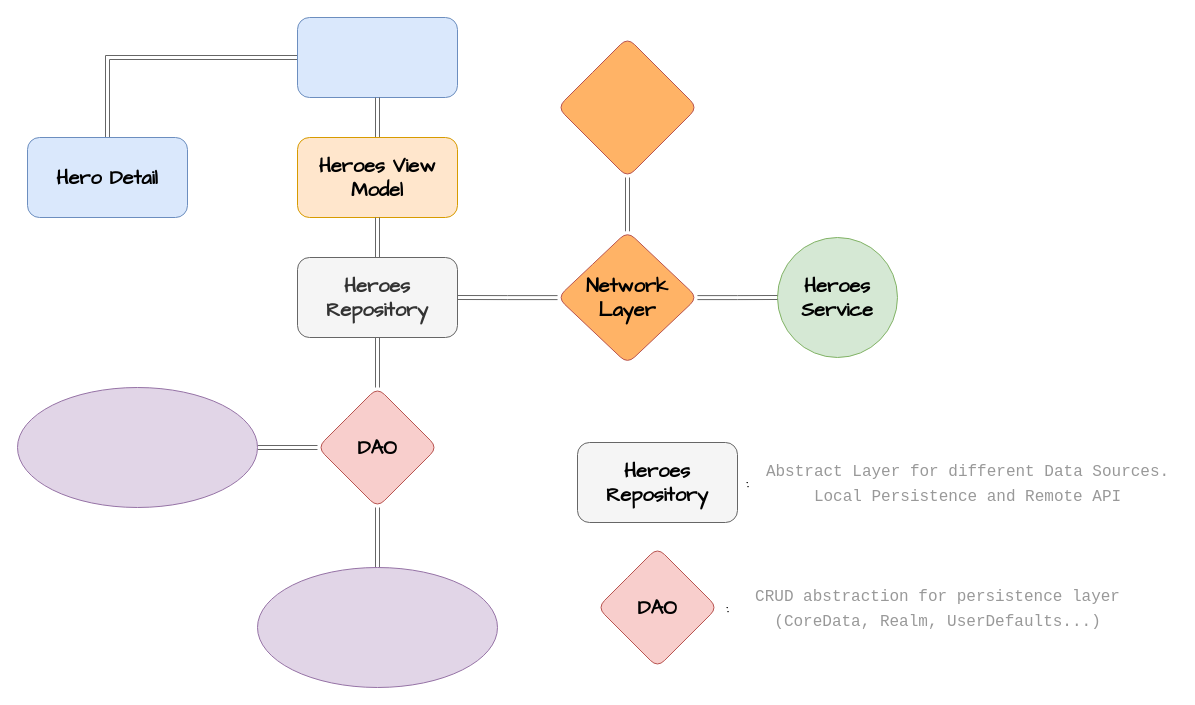
This 1195x705 diagram has some shape labels left out. Here are the shapes that lost their labels. From the top down, the centre of each, then its label:
point 377,57: Heroes List View
point 627,107: Router
point 137,447: Other DB (Realm, UserDefaults)
point 377,627: Core Data
